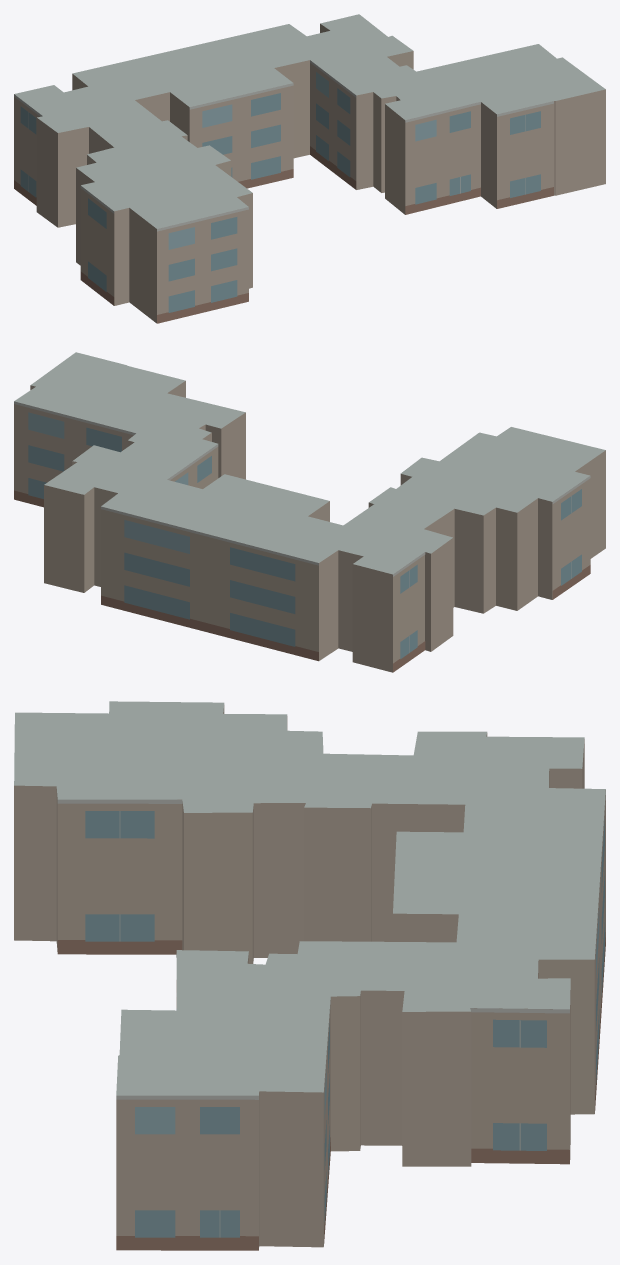
File: survey-upis-32473758.glb
3 renders of one model, top to bottom at view 1: azimuth 30°, elevation 25°; view 2: azimuth 150°, elevation 25°; view 3: azimuth 270°, elevation 25°, orthographic. The views are drawn at different scales.
Parts seen in each view (by area): view 1: survey-upis-32473758.tmp; view 2: survey-upis-32473758.tmp; view 3: survey-upis-32473758.tmp.
Boxes of the visible parts, <box> form: survey-upis-32473758.tmp: <box>14,14,605,323</box>; survey-upis-32473758.tmp: <box>14,352,605,672</box>; survey-upis-32473758.tmp: <box>14,701,605,1250</box>.
Size of the model in its own units: 49.98 by 9.15 by 31.7.
